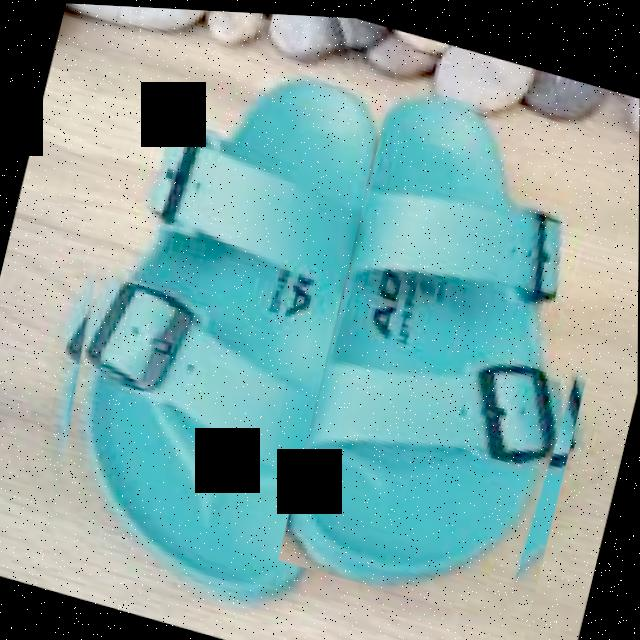shoe: (12, 3, 640, 640), (21, 22, 392, 590), (277, 72, 640, 628)
